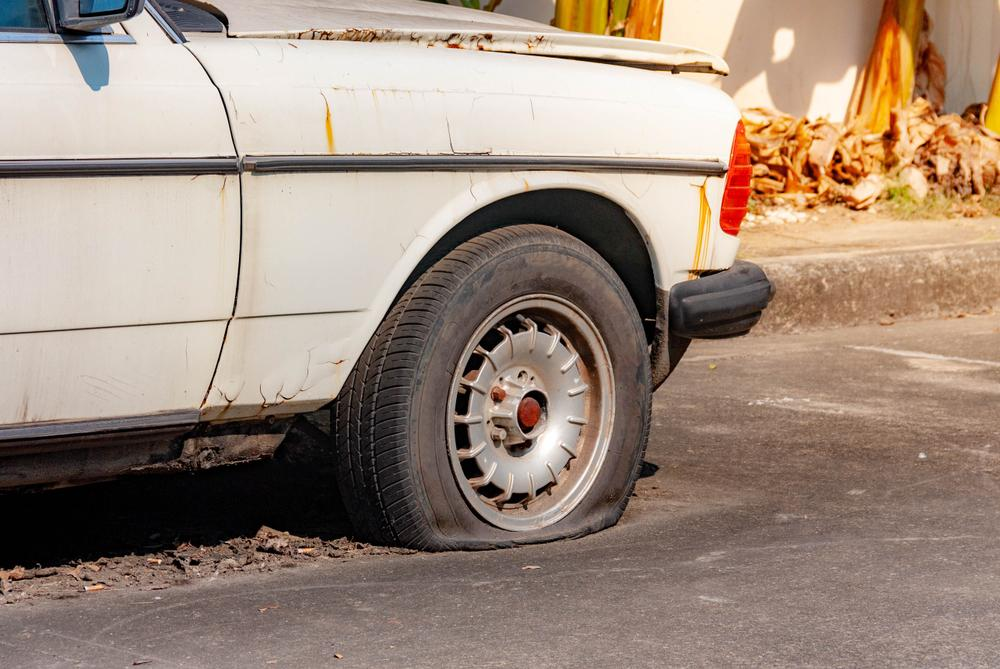tire flat: (332, 210, 656, 556)
